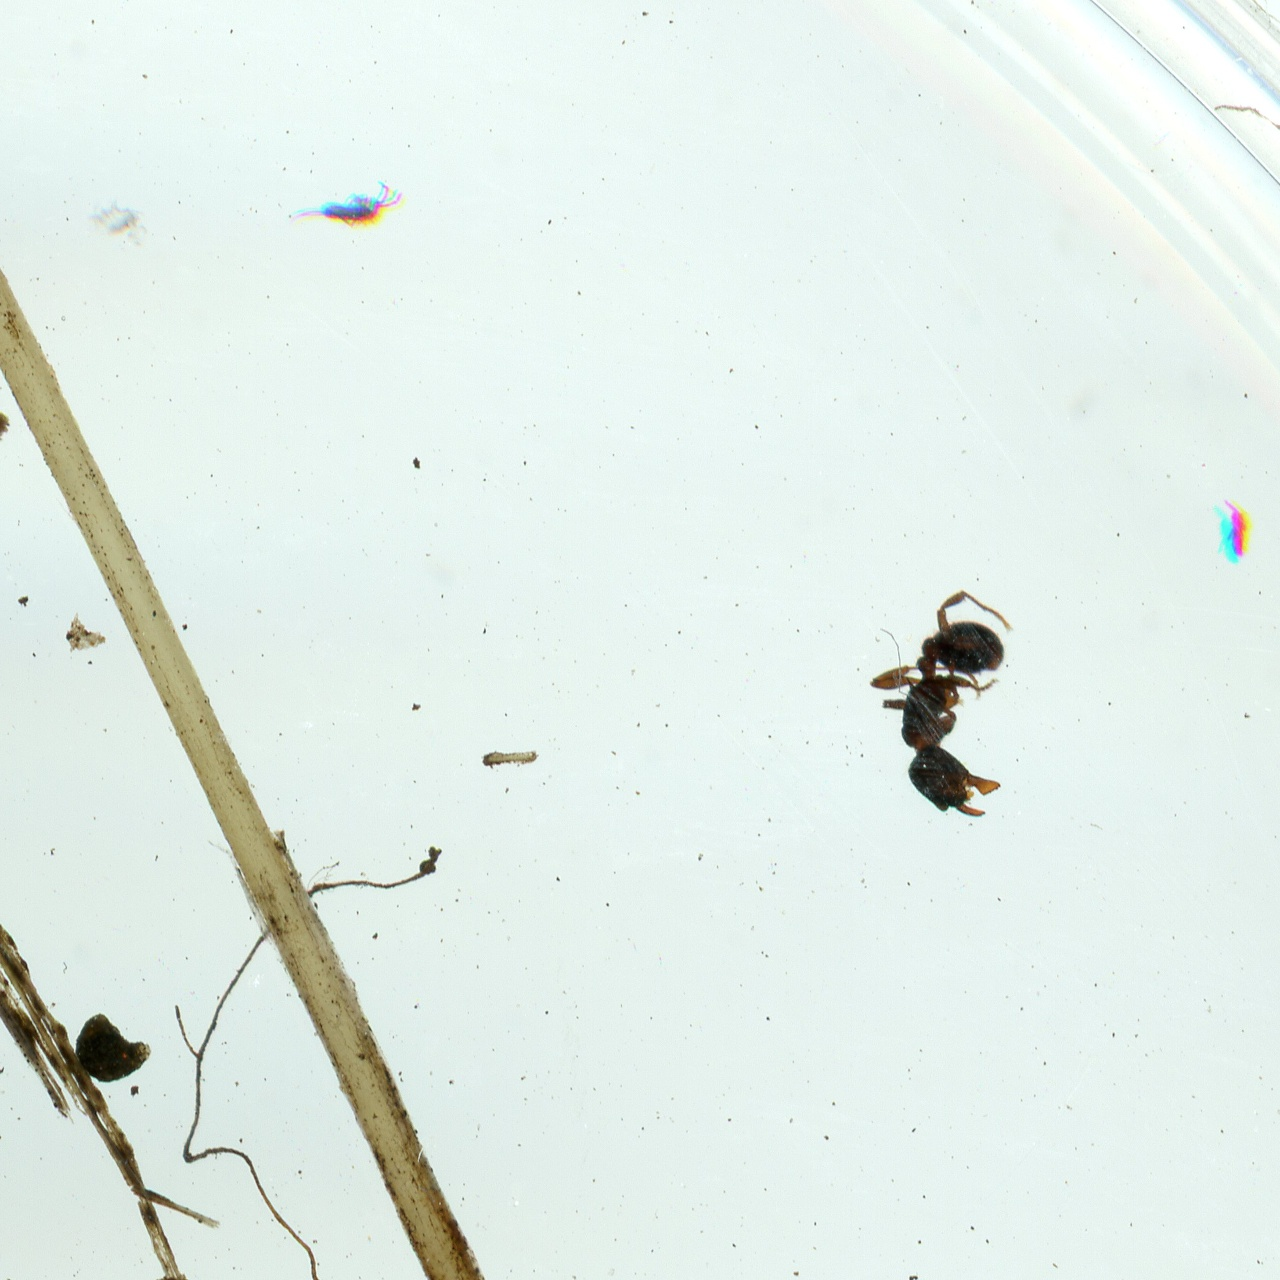arthropod: (868, 586, 1017, 824), (284, 175, 411, 236), (1207, 495, 1255, 564)
